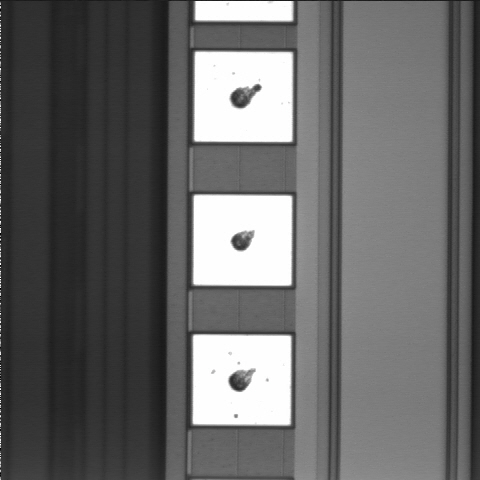pad: (193, 195, 292, 286), (194, 52, 293, 142), (193, 335, 291, 425)
